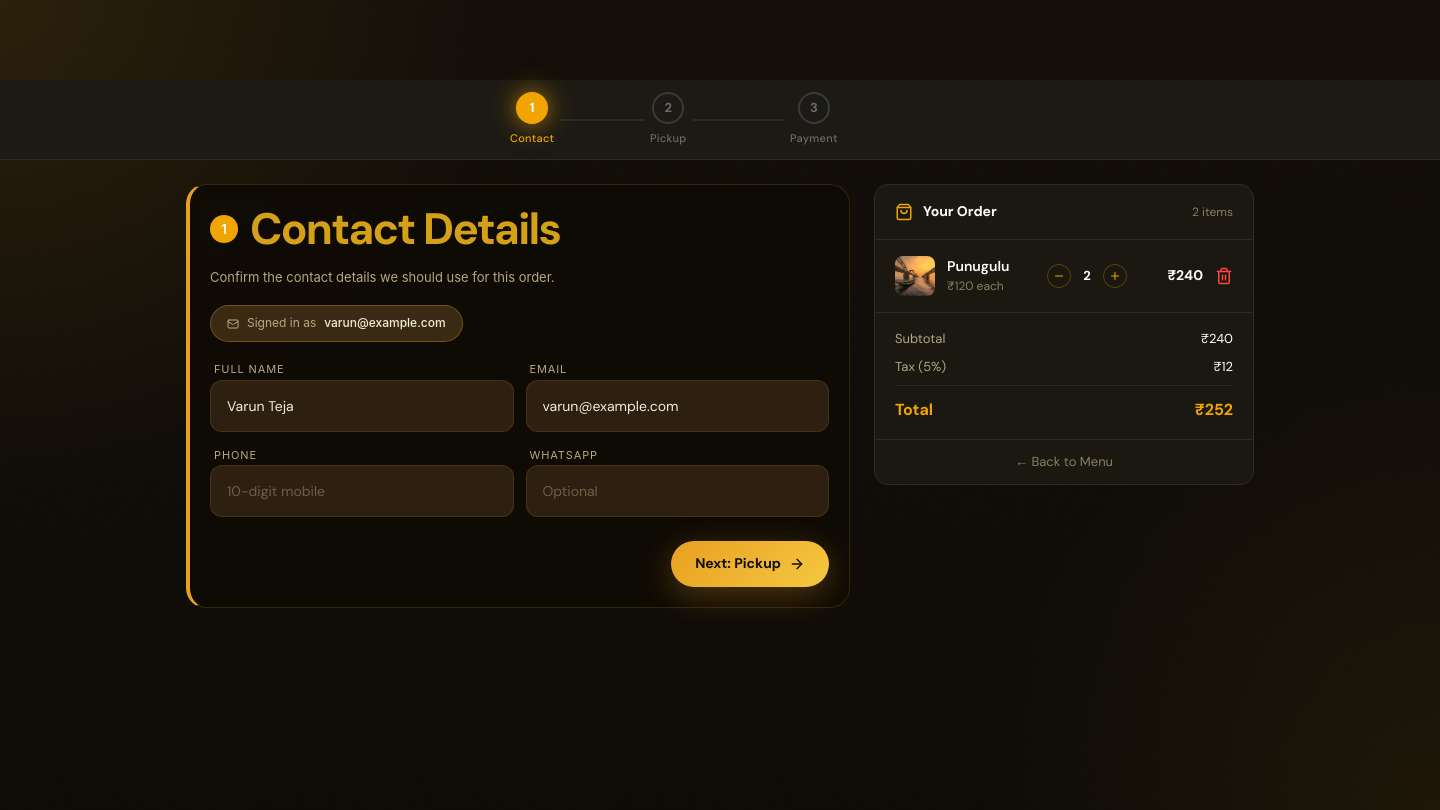
Scenario: OrderPage › shows the payment walkthrough when switching to online payment
Type "9876543210" into the field labelled "Phone" at (362, 491), box [210, 465, 514, 517]
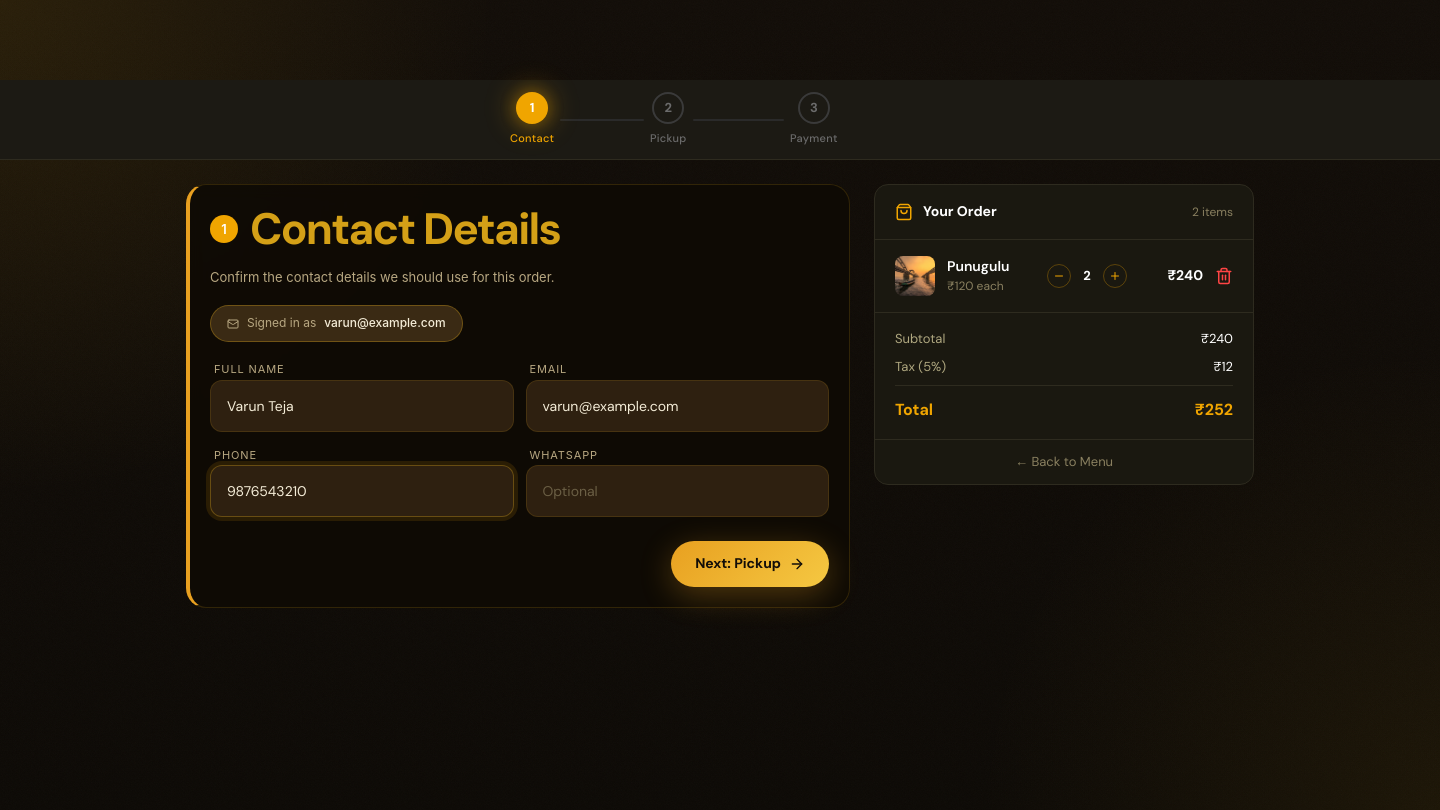
Click the button "Next: Pickup" at (750, 564), box [671, 541, 829, 587]
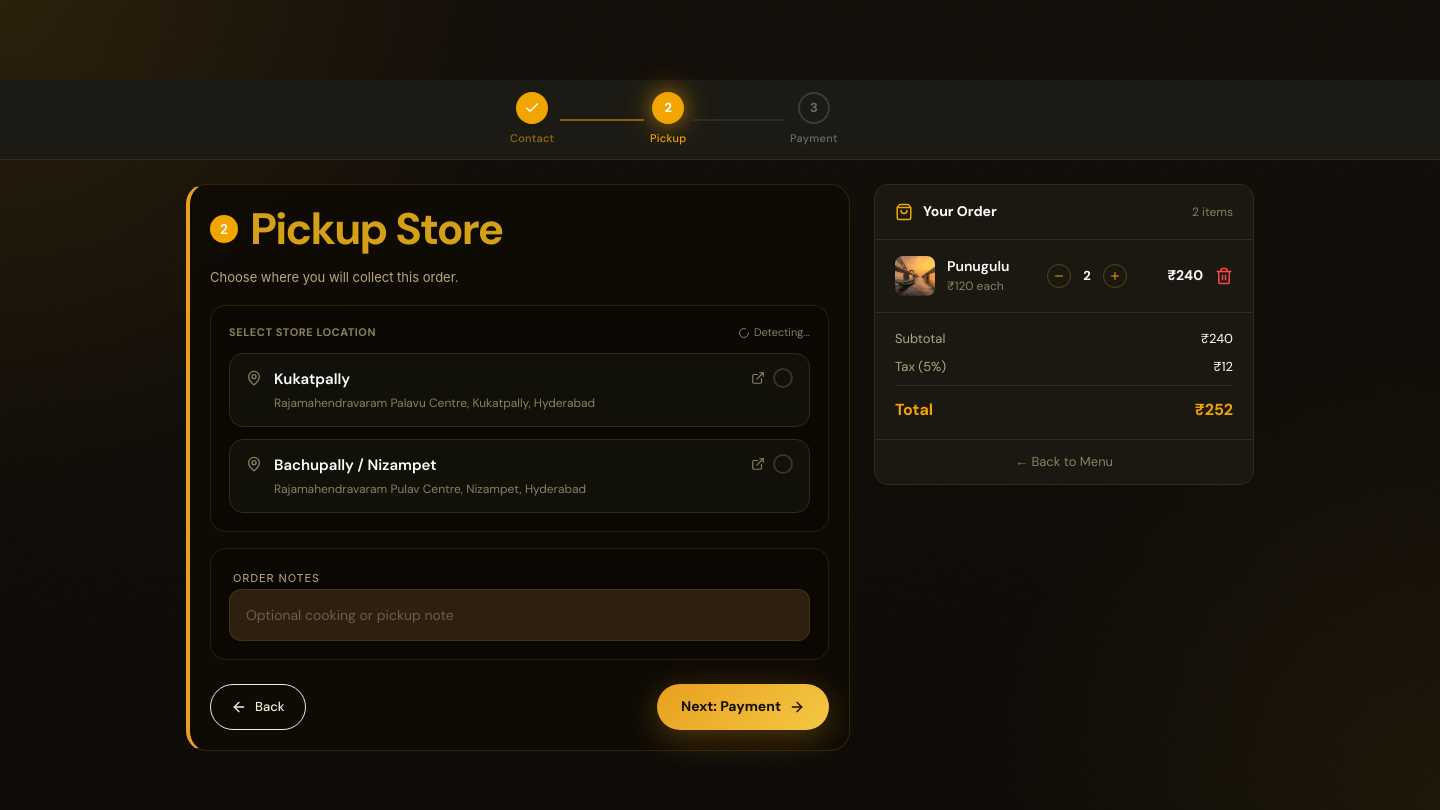
Click the button "Kukatpally" at (312, 379), box [229, 354, 810, 427]
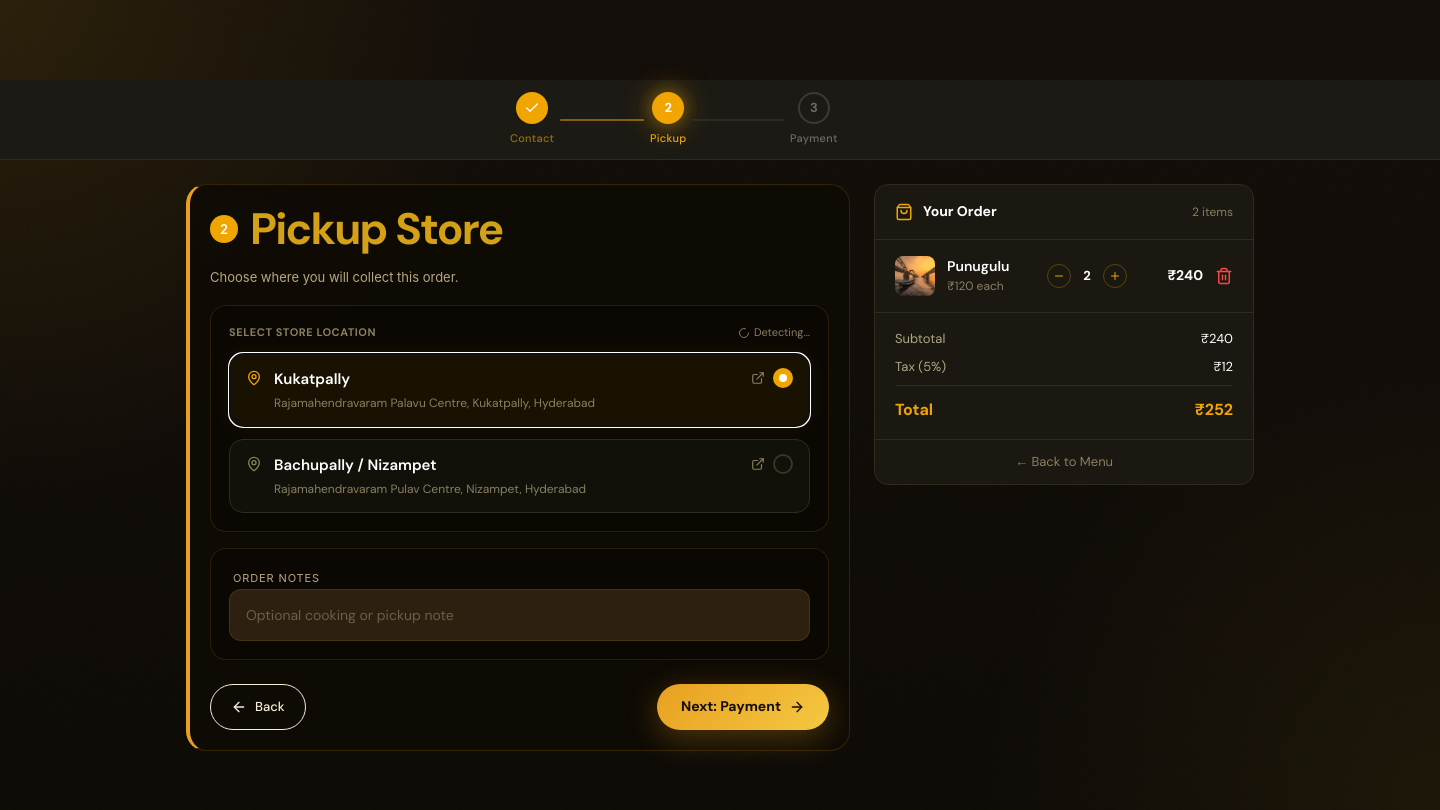
Click the button "Next: Payment" at (743, 707), box [657, 684, 829, 730]
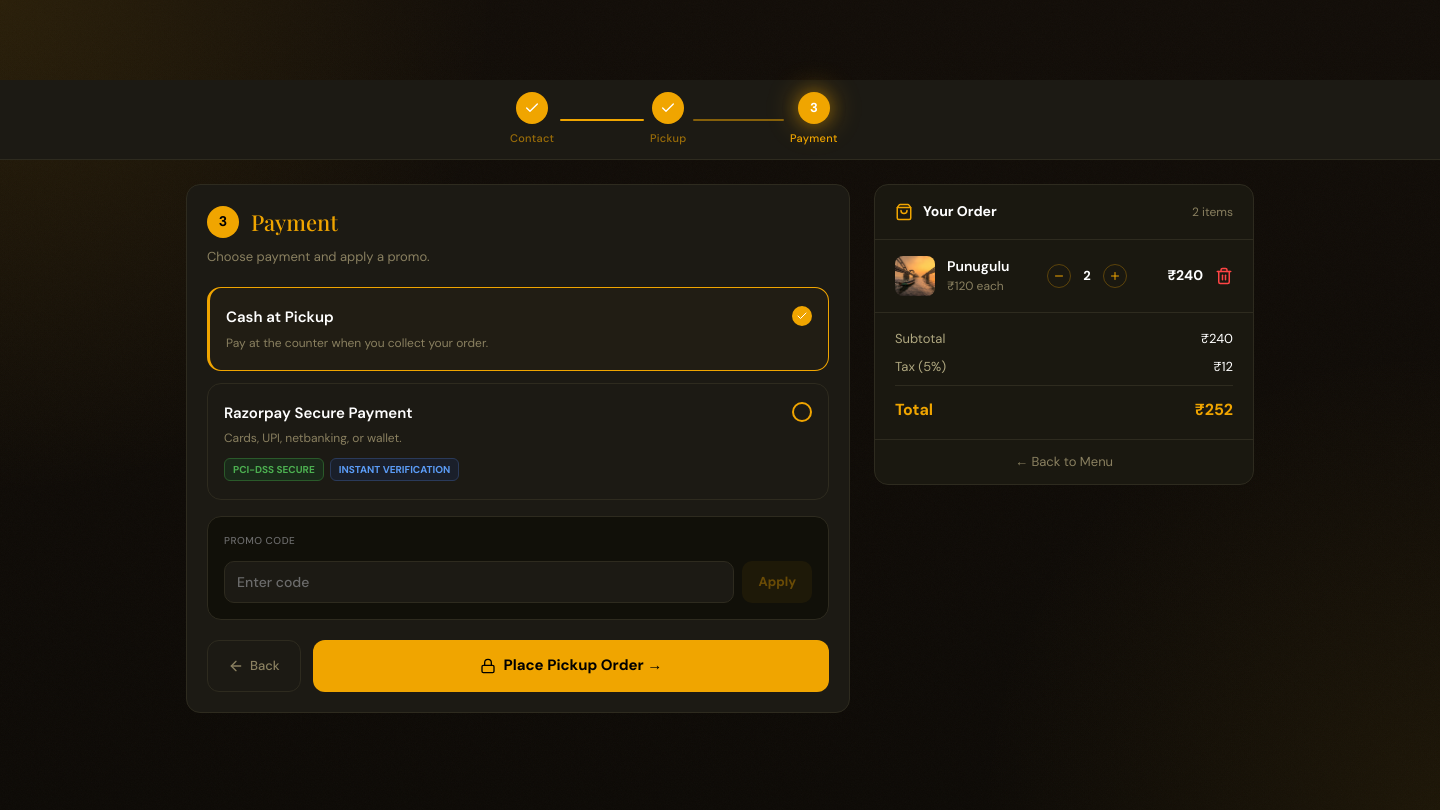
Click the button "Razorpay Secure Payment" at (318, 413), box [207, 383, 829, 500]
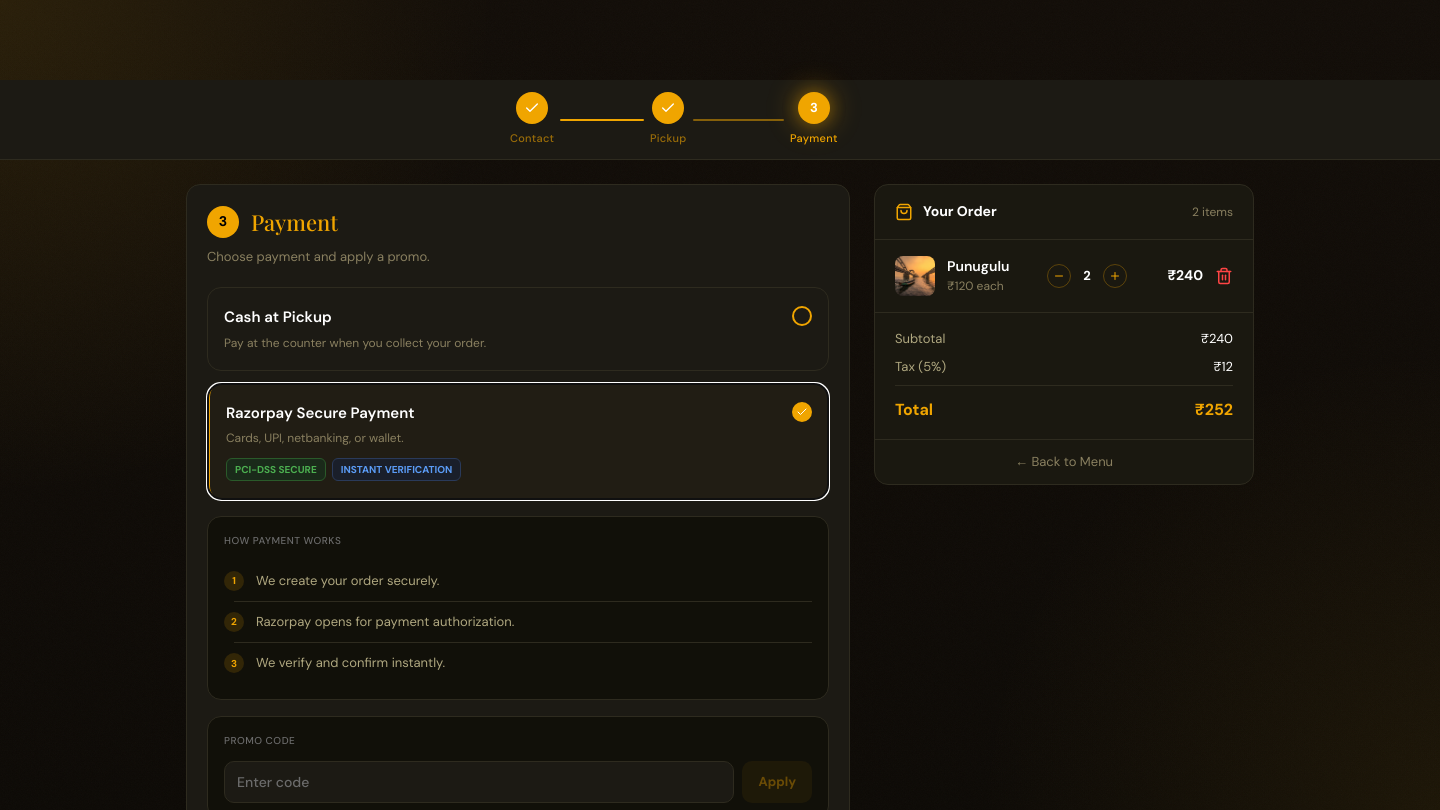
expect the text "How Payment Works" is shown: met, box [224, 534, 341, 548]
expect the text "Razorpay opens for payment authorization." is shown: met, box [256, 612, 514, 632]
